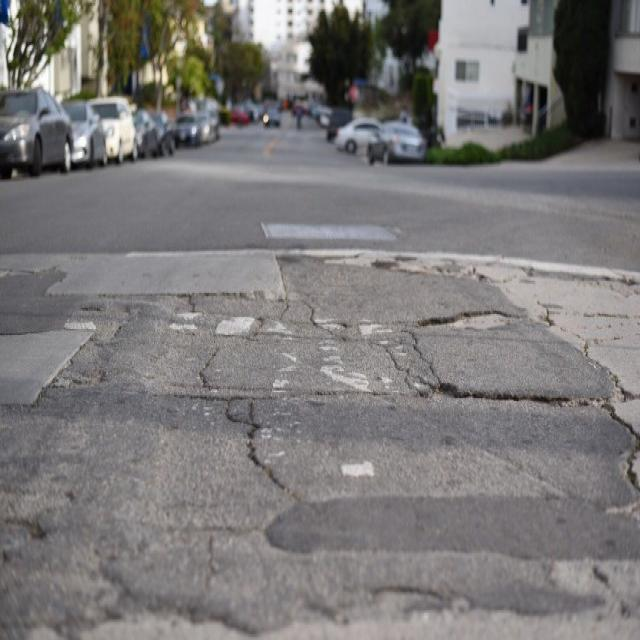Surface Erosion: (27, 220, 597, 622)
